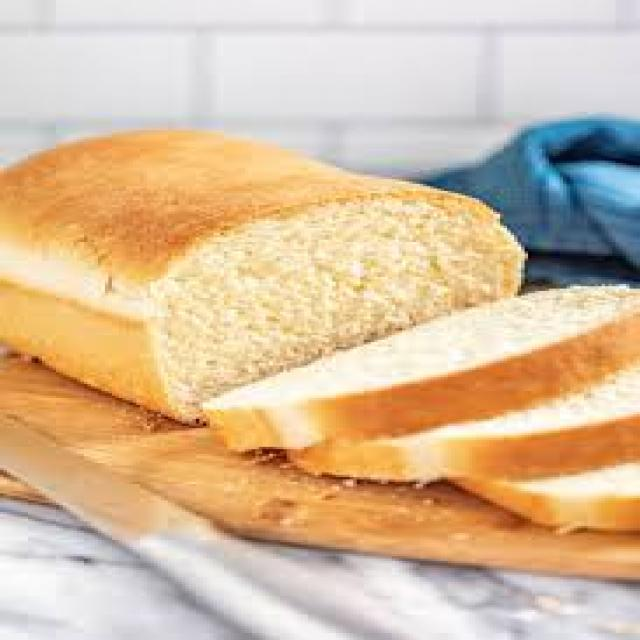organic waste: (0, 124, 521, 422), (189, 279, 636, 447), (276, 368, 636, 482), (444, 456, 637, 531)
